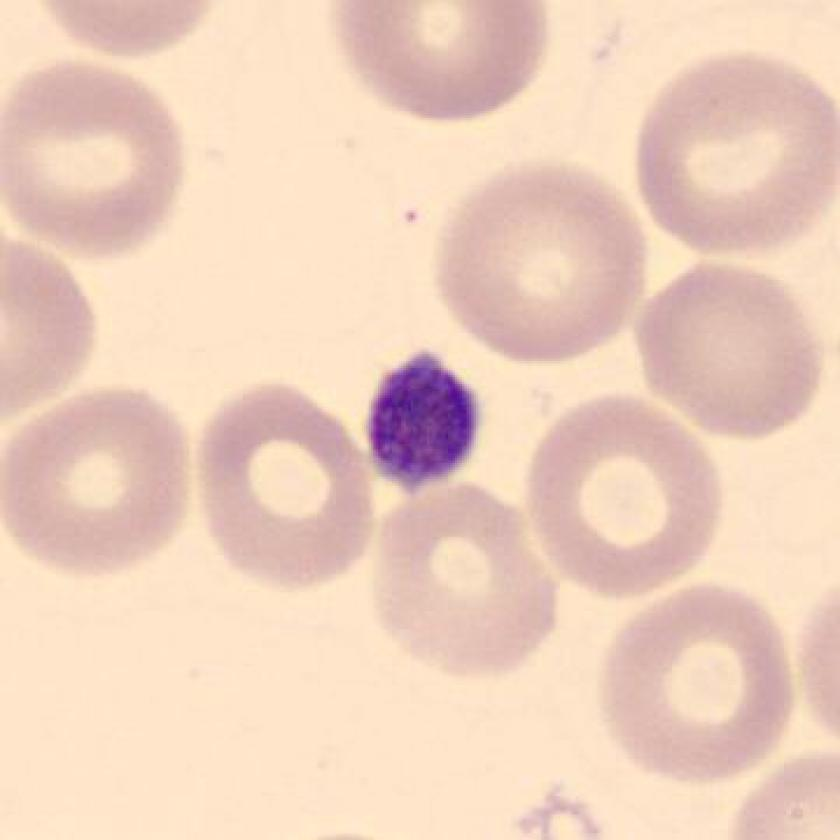platelets: (361, 351, 487, 497)
